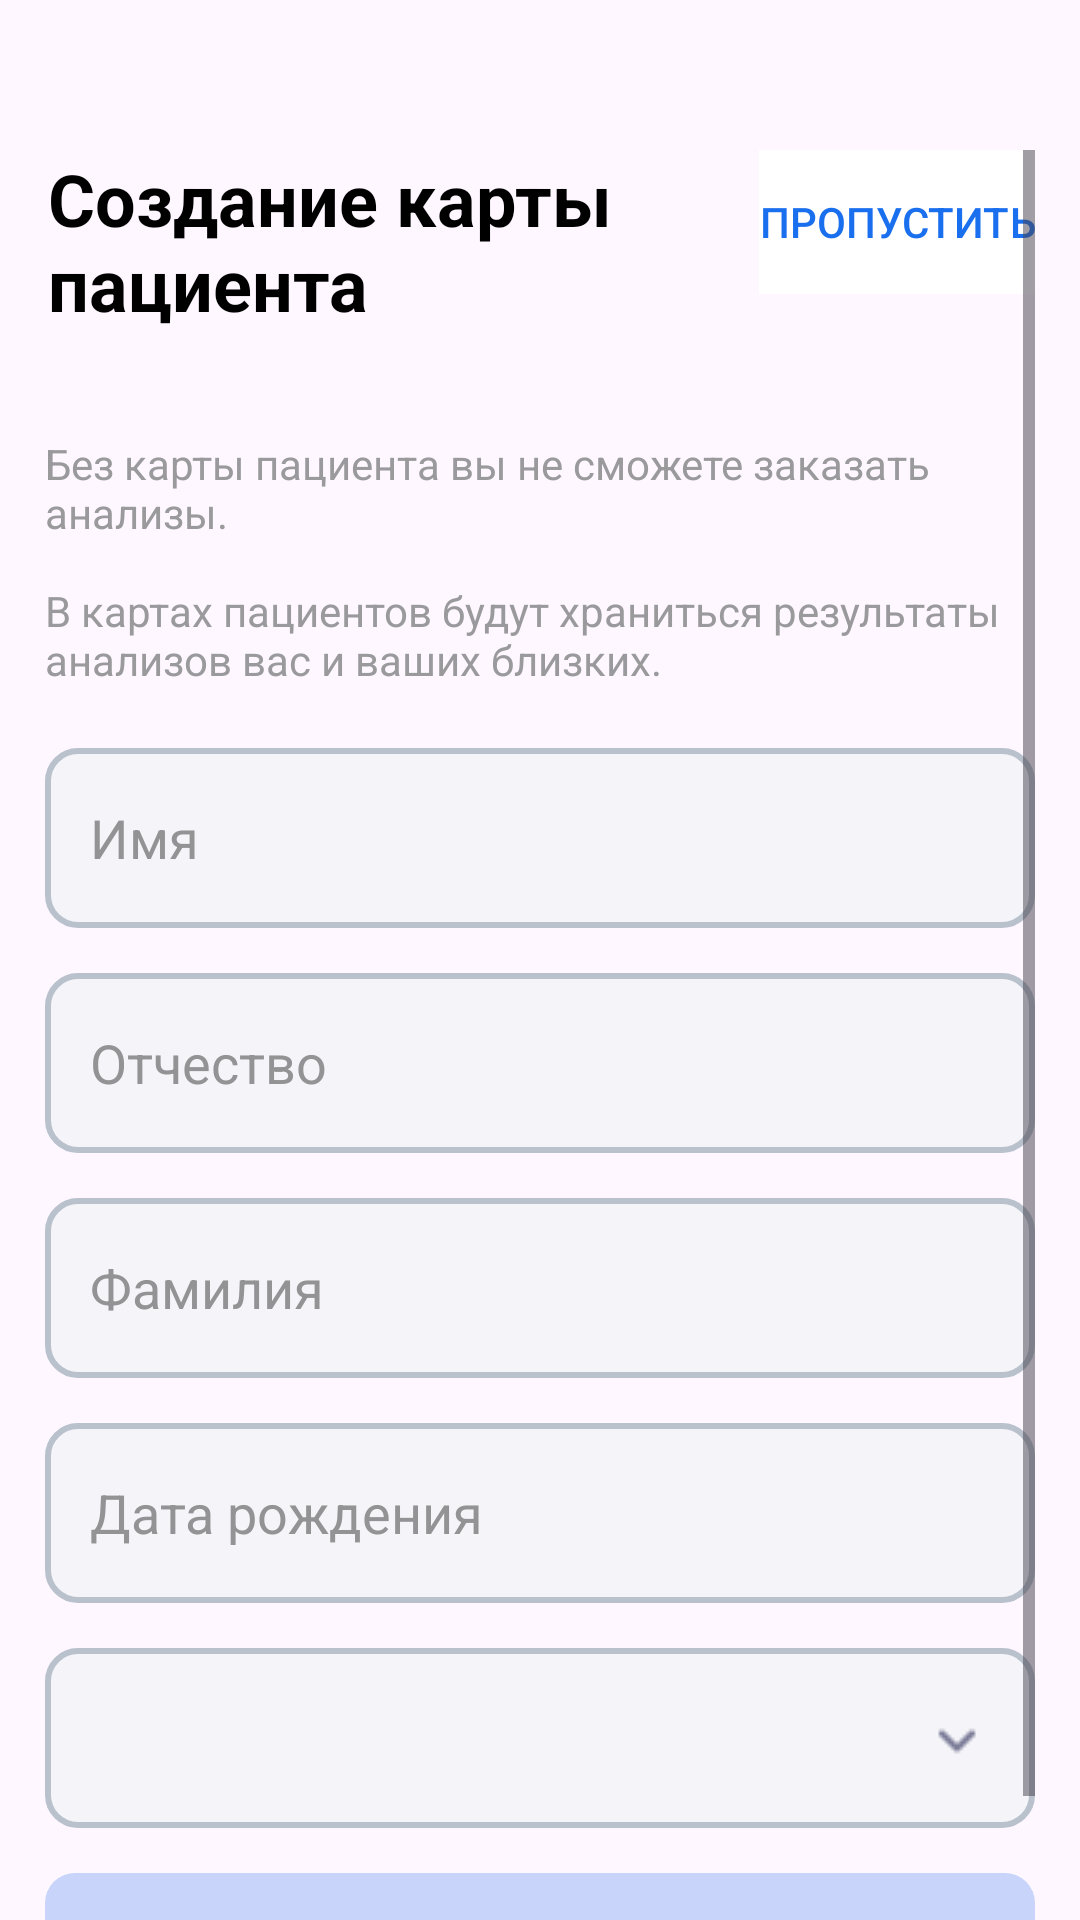

Screen size 1080 × 1920. Icon name, then its center in pixels as (x=x, y=y):
down arrow: (x=957, y=1741)
